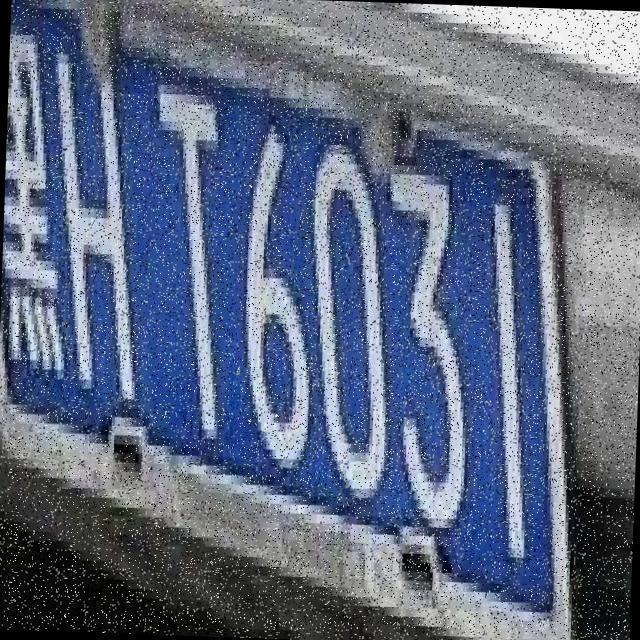license-plate: (15, 5, 563, 606)
